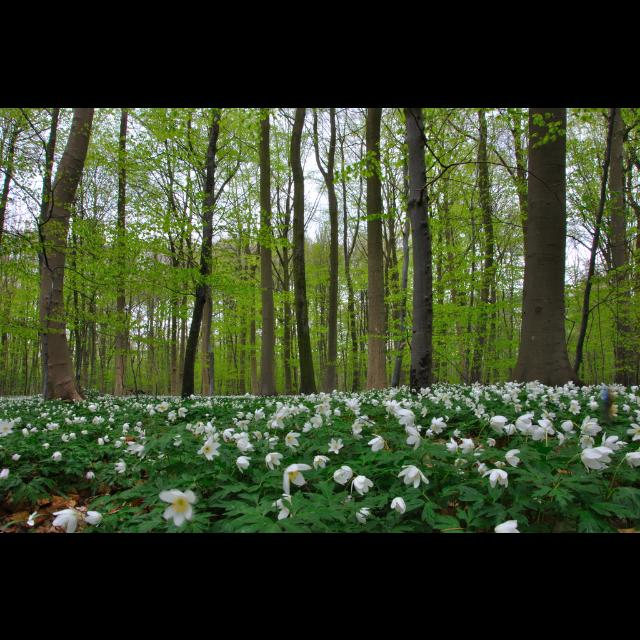Flower: (502, 376, 640, 410), (233, 397, 310, 449), (156, 486, 198, 528), (507, 408, 551, 438), (49, 511, 105, 533), (223, 426, 255, 452), (282, 458, 308, 490), (580, 445, 612, 471), (338, 388, 367, 412), (396, 467, 426, 489), (270, 492, 294, 518), (481, 468, 509, 490), (554, 413, 572, 445), (198, 432, 220, 458), (580, 412, 602, 438), (353, 471, 373, 497), (488, 416, 508, 442), (313, 391, 333, 415), (300, 416, 324, 434), (367, 432, 388, 451), (504, 448, 522, 470), (626, 416, 640, 444), (606, 428, 620, 454), (388, 496, 408, 514), (492, 520, 522, 532), (460, 432, 482, 448), (1, 417, 20, 435), (334, 465, 351, 485), (168, 405, 186, 423), (406, 426, 424, 444), (124, 442, 144, 458), (149, 399, 171, 413), (623, 450, 639, 468), (396, 408, 416, 422), (426, 417, 446, 431), (114, 458, 130, 474), (266, 453, 280, 471), (314, 451, 328, 469), (330, 437, 344, 455), (348, 414, 362, 432), (356, 504, 370, 522), (236, 456, 250, 472), (286, 435, 300, 447), (446, 439, 458, 453), (42, 420, 56, 430), (0, 464, 10, 476), (98, 435, 110, 445), (64, 431, 74, 442), (92, 415, 105, 423), (120, 422, 132, 430), (20, 427, 28, 437), (50, 452, 60, 460), (87, 471, 95, 481), (107, 441, 117, 449), (88, 401, 96, 409), (11, 454, 21, 458)
